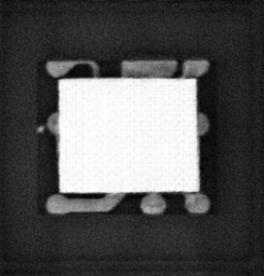DIE_INK: (33, 124, 46, 134)
